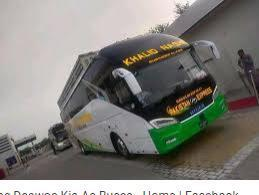bus: (58, 32, 230, 158)
